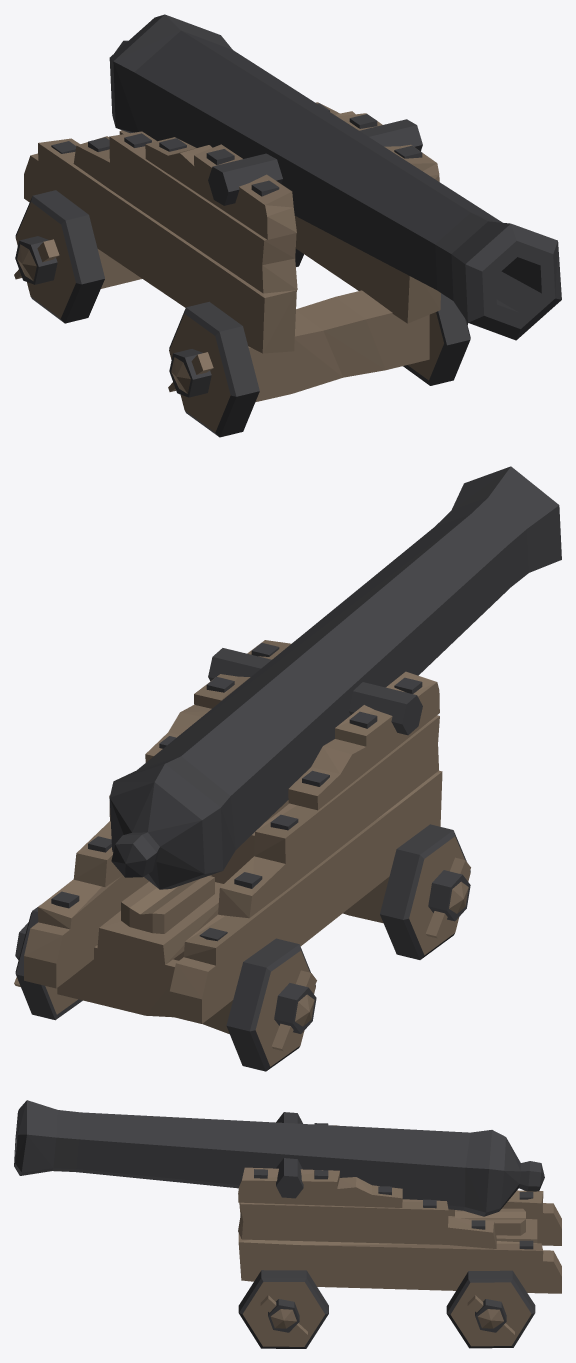
Rendered from SM_Prop_Cannon_LowDetail_01.glb.
The picture shows the model from 3 angles, top to bottom: view 1: azimuth 30°, elevation 25°; view 2: azimuth 150°, elevation 25°; view 3: azimuth 270°, elevation 25°; orthographic projection. The views are drawn at different scales.
Visible parts, largest first — view 1: SM_Prop_Cannon_LowDetail_01_part00; view 2: SM_Prop_Cannon_LowDetail_01_part00; view 3: SM_Prop_Cannon_LowDetail_01_part00.
Part boxes in pixels (x1,y1,x2,y2): SM_Prop_Cannon_LowDetail_01_part00: [14, 14, 561, 437]; SM_Prop_Cannon_LowDetail_01_part00: [14, 466, 561, 1071]; SM_Prop_Cannon_LowDetail_01_part00: [14, 1100, 561, 1348].
Size of the model in its own units: 0.9886 by 1.03 by 2.43.
1 material, 1 textured.
